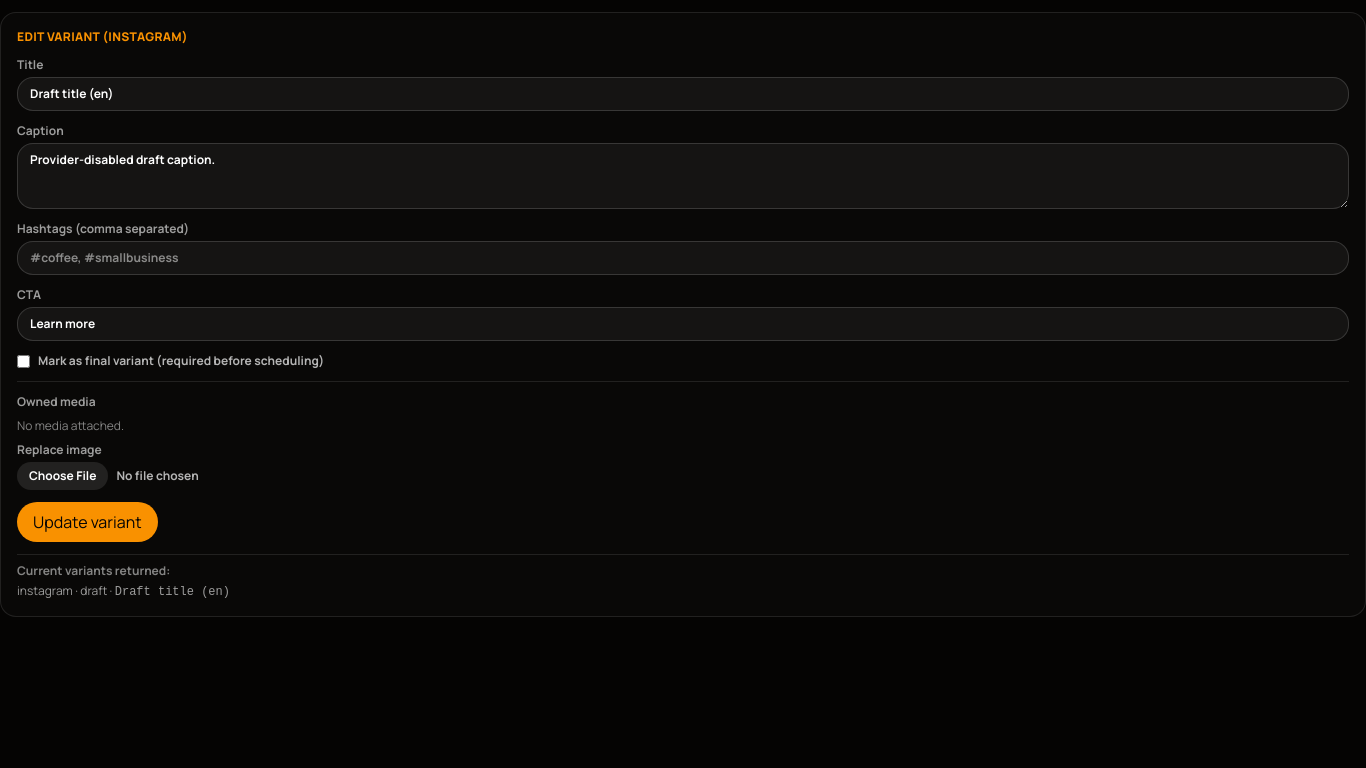
Test case: VariantEditor › surfaces update failures instead of swallowing them
What coordinates should you click on to do the following:
click the button "Update variant"
I would click on:
 (87, 522)
Its box is [17,502,158,542].
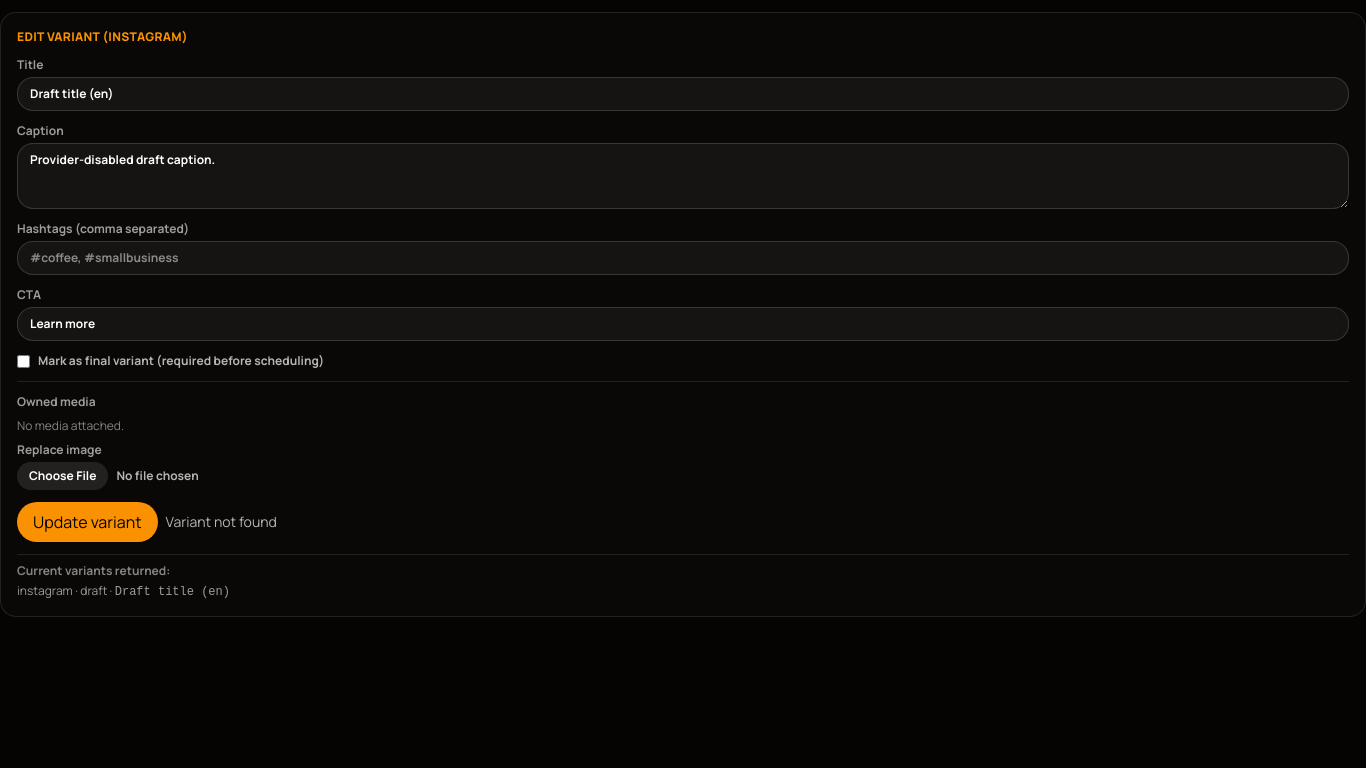
Check: the text "Variant not found" is shown, box [166,512,277,532]
